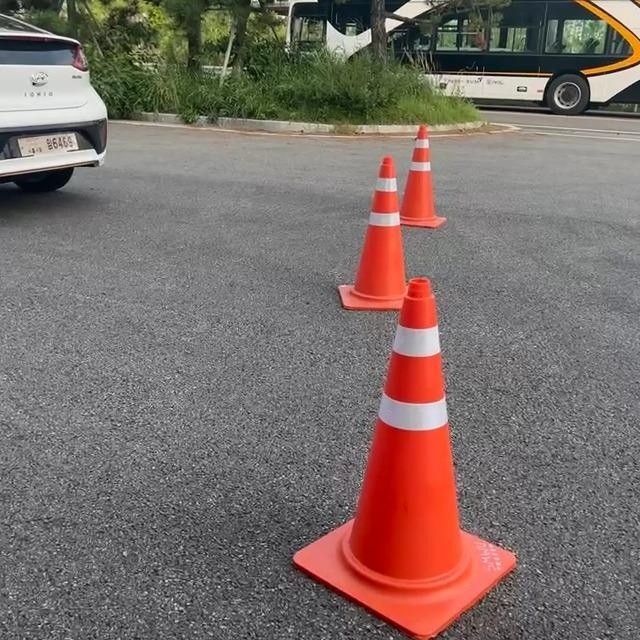fallen_object: (330, 287, 609, 638), (322, 172, 425, 315), (349, 110, 466, 221)
